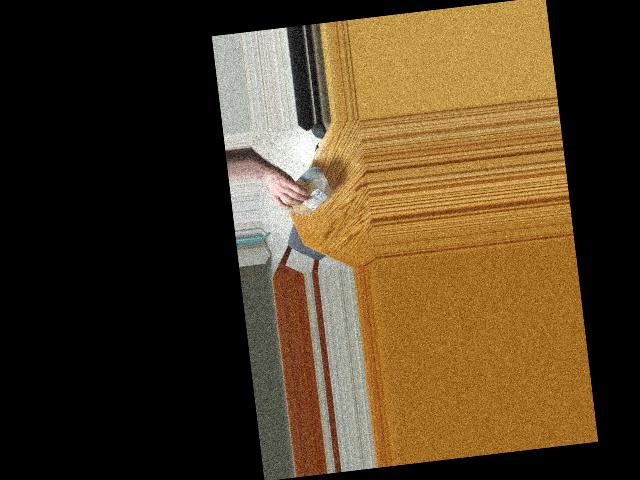cheese: (273, 168, 334, 220)
